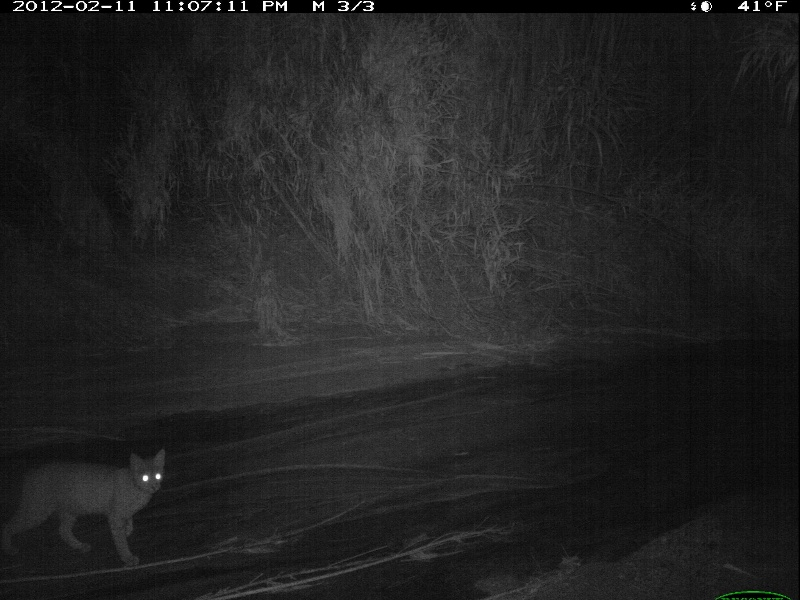cat: (1, 444, 172, 562)
